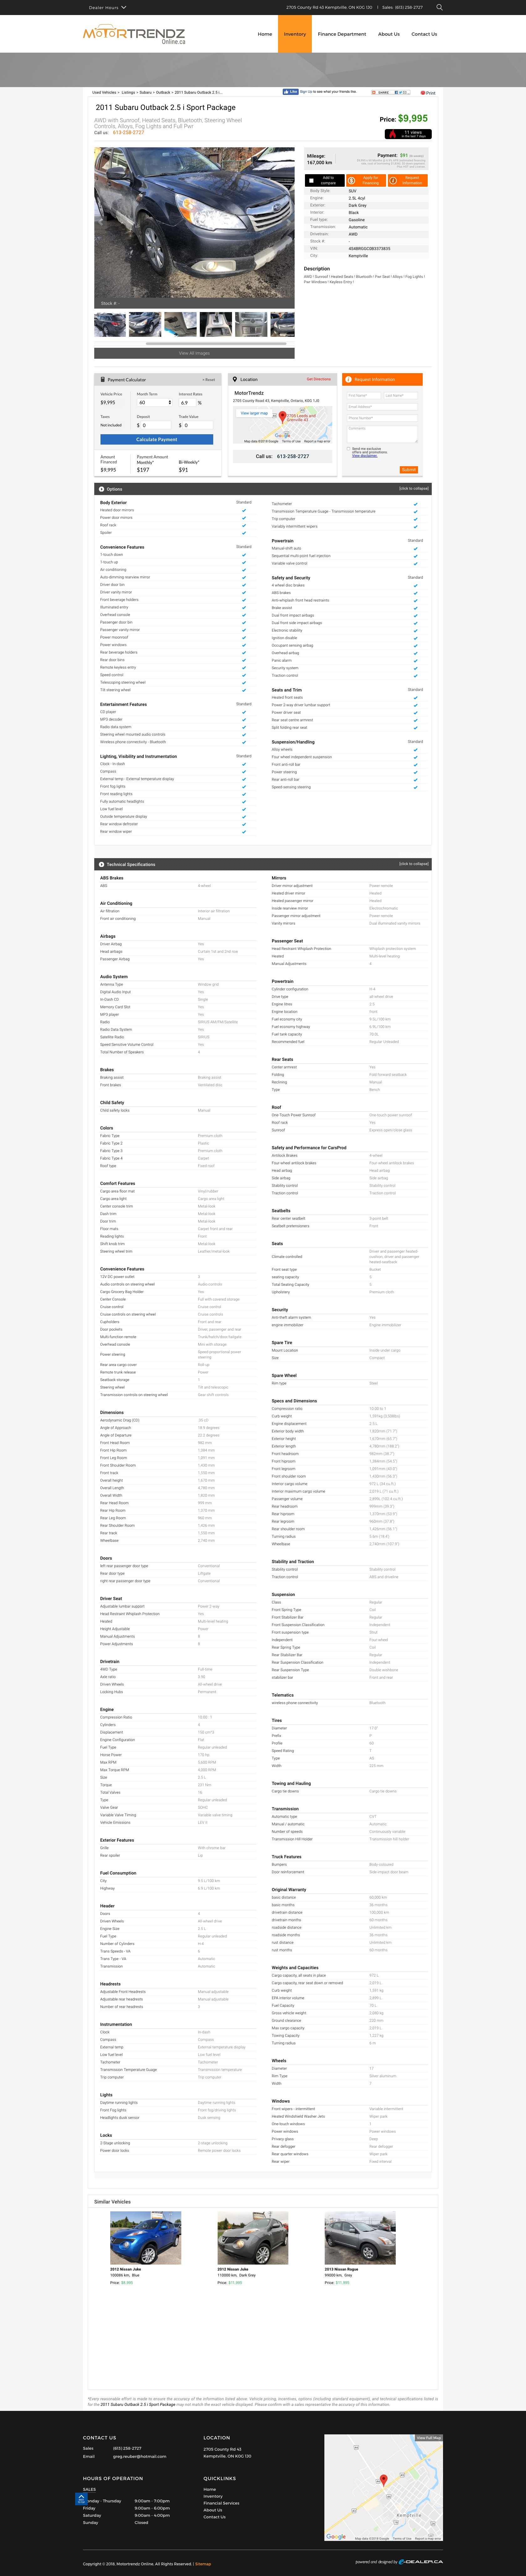car: (281, 215, 296, 232)
